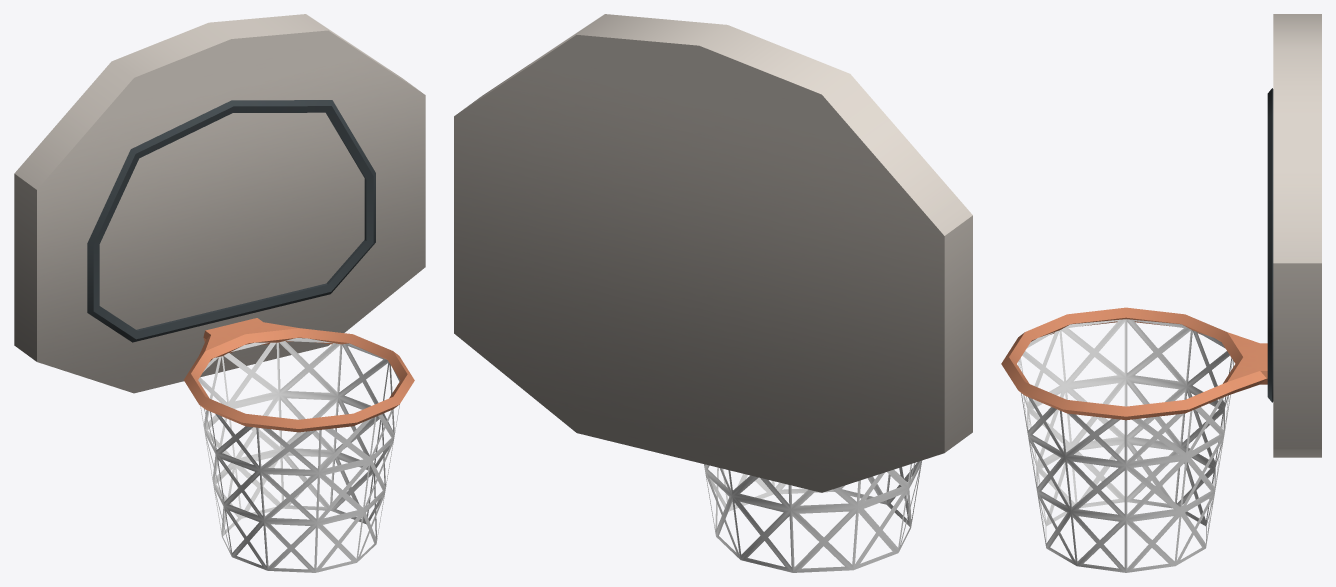
File: Canasta_01.fbx
The picture shows the model from 3 angles, left to right: view 1: azimuth 30°, elevation 25°; view 2: azimuth 150°, elevation 25°; view 3: azimuth 270°, elevation 25°; orthographic projection. The views are drawn at different scales.
Parts seen in each view (by area): view 1: Box037; view 2: Box037; view 3: Box037.
Part boxes in pixels (x1,y1,x2,y2): Box037: (14,14,425,572); Box037: (454,14,972,572); Box037: (1001,14,1321,572).
Size of the model in its own units: 73.7 by 81.88 by 48.71.
